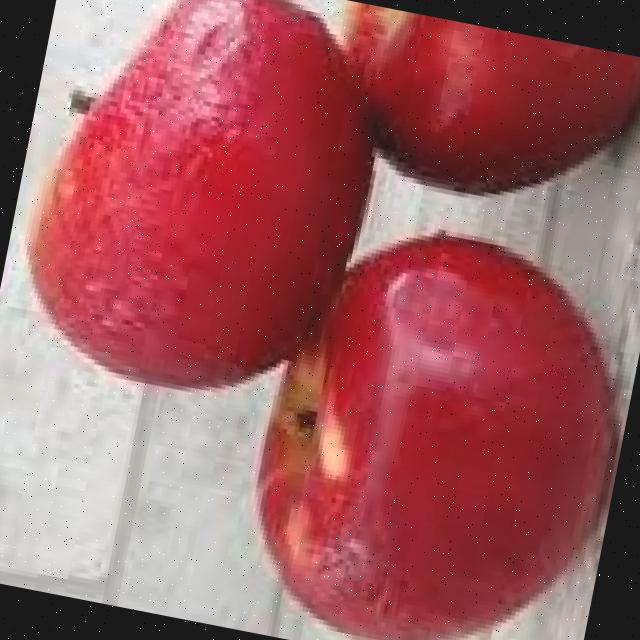overripe: (223, 197, 640, 640), (0, 0, 401, 427)
